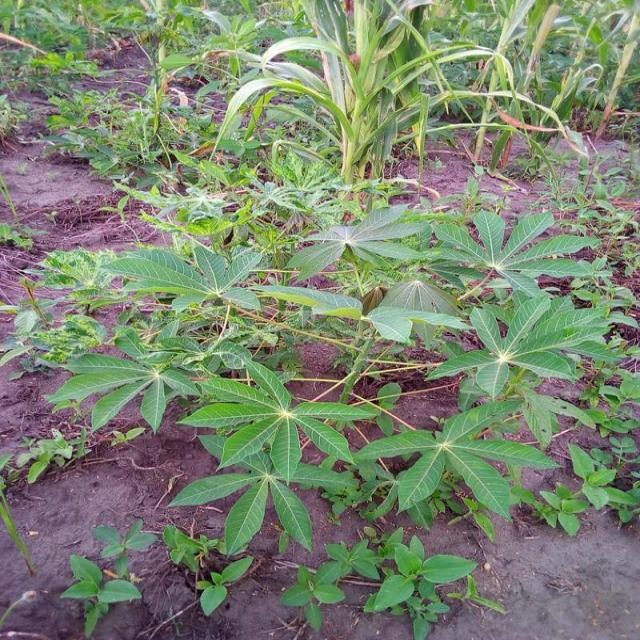cassava leaf: (366, 277, 466, 347)
